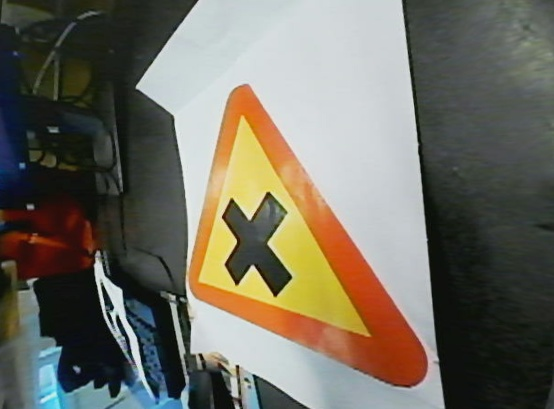junction: (186, 85, 436, 391)
